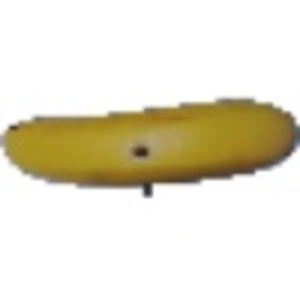banana: (1, 93, 298, 187)
